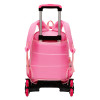suitcase: (23, 4, 76, 100)
